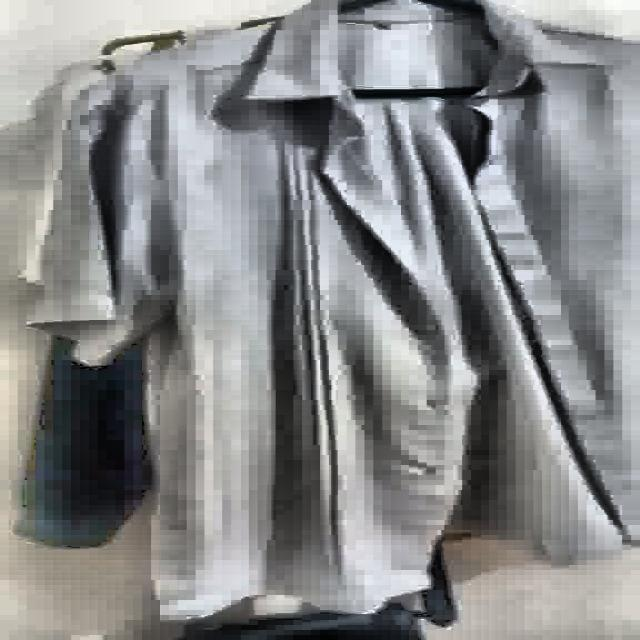clothes: (21, 1, 634, 628)
